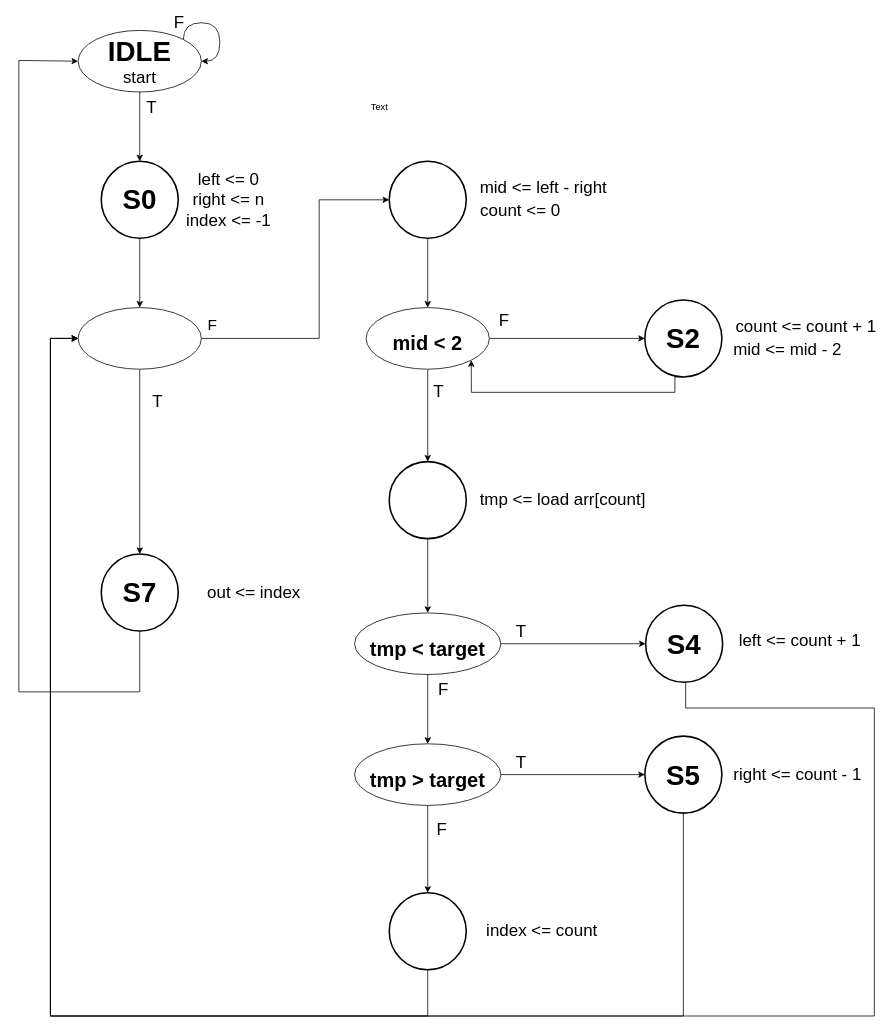
This 896x1036 diagram has some shape labels left out. Here are the shapes that lost their labels. From the top down, the box of each, then its label:
(388, 160, 467, 239): S1
(77, 307, 201, 369): left > right
(388, 460, 467, 539): S3
(388, 892, 467, 970): S6
